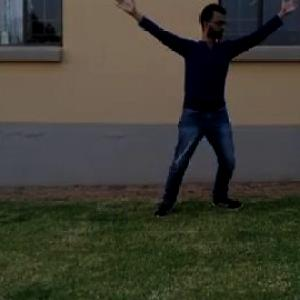takeoff: (121, 0, 299, 209)
